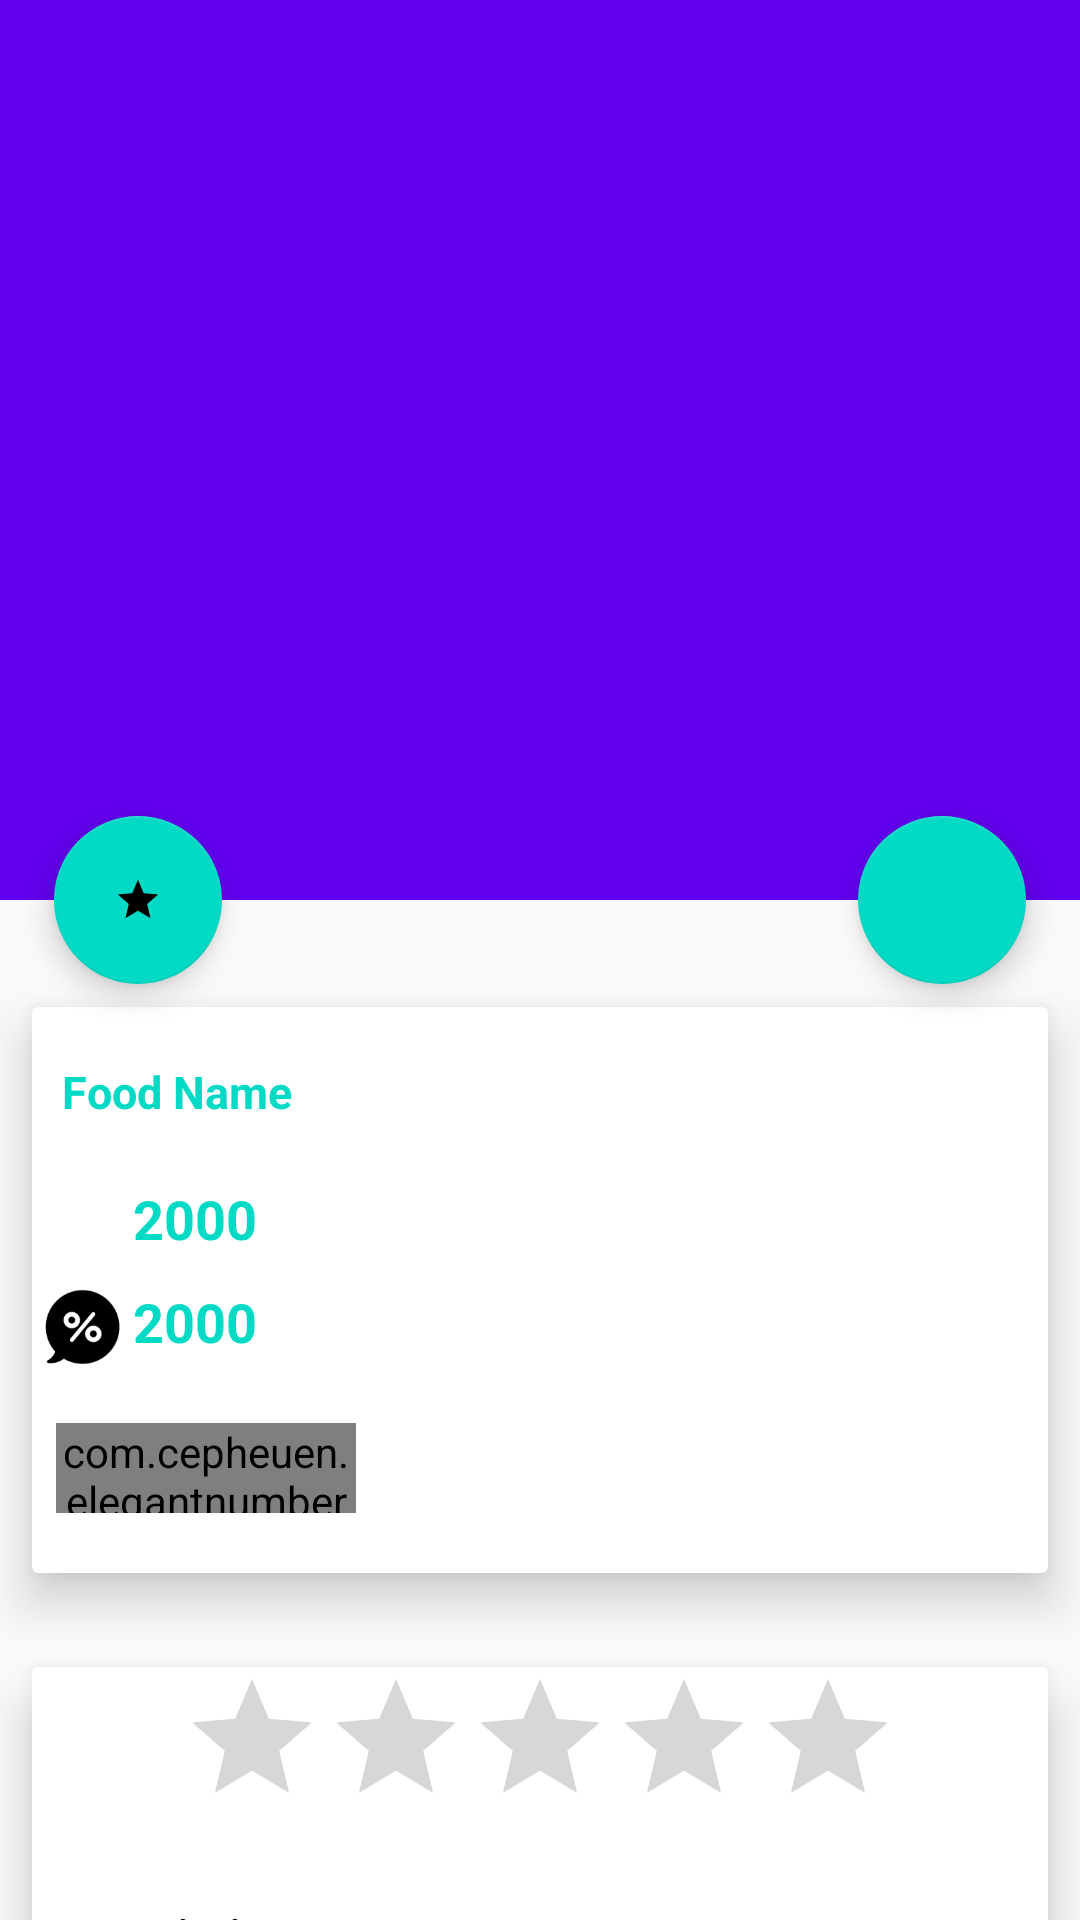

Icons on this 1080×1920 Android screen, each with the point to tap as (x,y):
percentage: (82,1327)
rate: (138,900)
